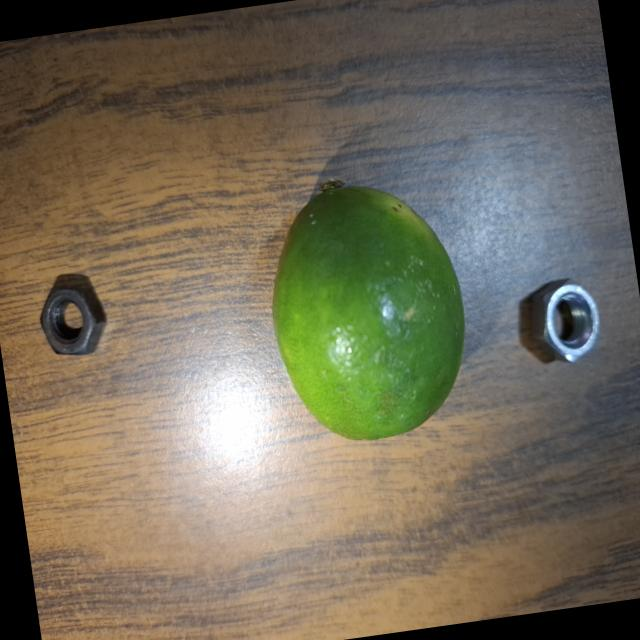limon: (251, 154, 483, 454)
milimetrico: (31, 272, 120, 362)
tuerca: (525, 262, 609, 371)
